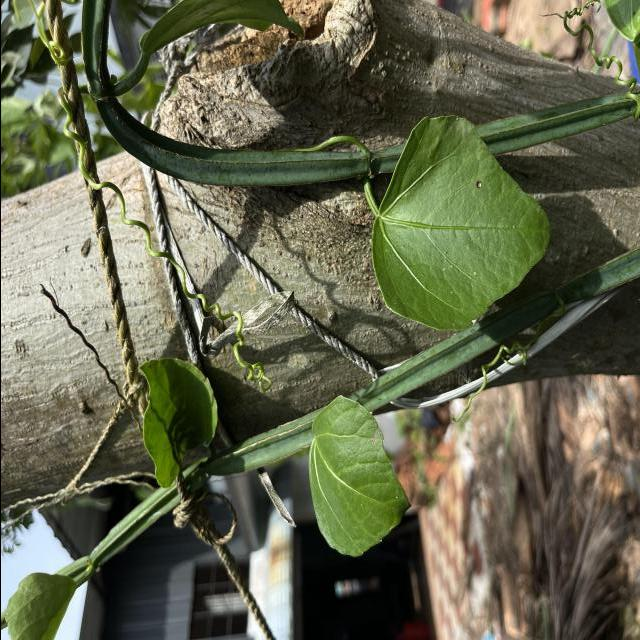Cissus quadrangularis: (366, 112, 552, 336), (304, 392, 413, 560)
